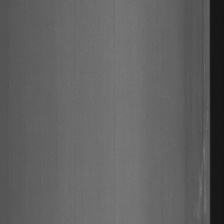silk_spot: (197, 9, 208, 219)
